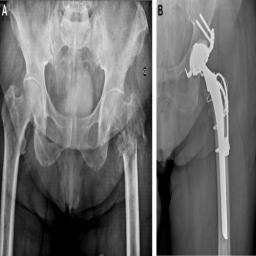cancer: (115, 89, 151, 174)
